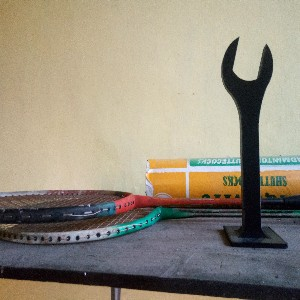spanner: (220, 36, 289, 250)
